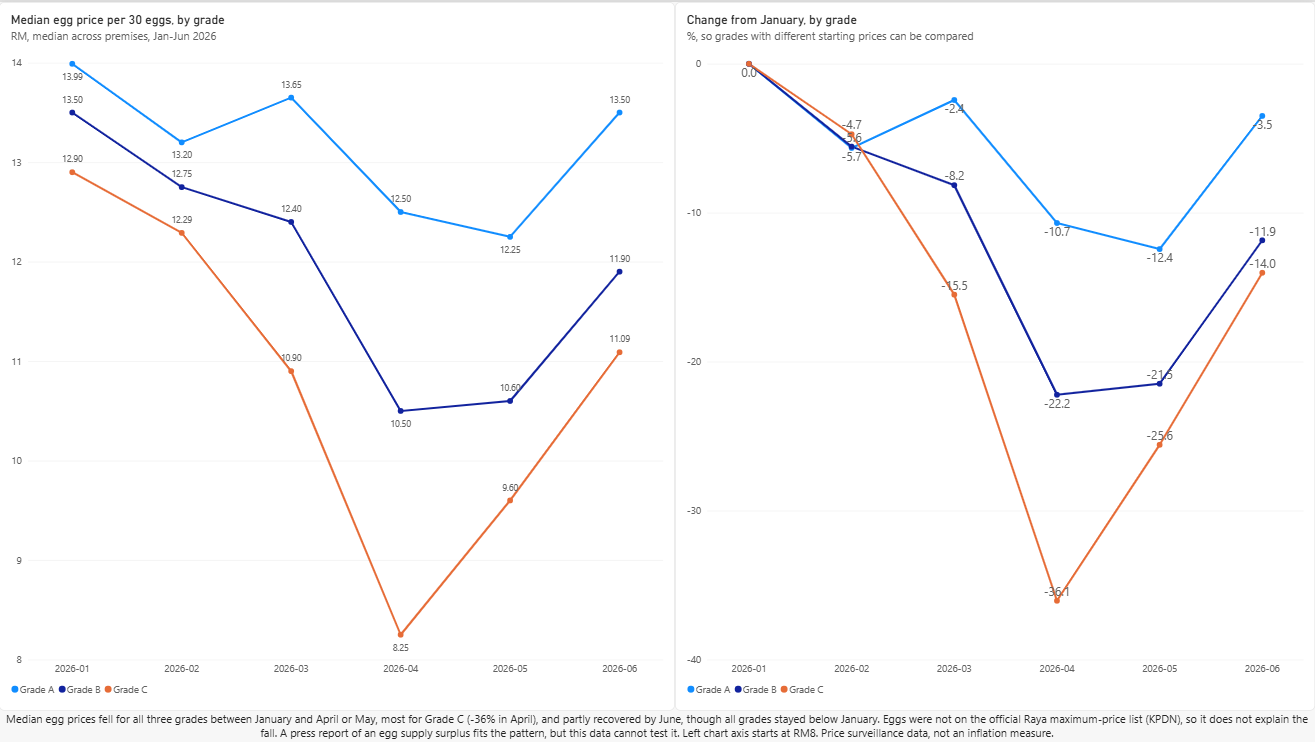

The page's visual inventory and layout, read from the dashboard file:
{"tool":"powerbi","page":{"name":"Eggs","canvas":[1920,1080],"ordinal":2},"visuals":[{"type":"lineChart","title":"Median egg price per 30 eggs, by grade","fields":{"Category":["dash_egg_monthly.month"],"Series":["dash_egg_monthly.grade"],"Y":["Avg(dash_egg_monthly.median)"]},"box":[0,0,986.3,1079.6],"z":0},{"type":"lineChart","title":"Change from January, by grade","fields":{"Category":["dash_egg_monthly.month"],"Series":["dash_egg_monthly.grade"],"Y":["Avg(dash_egg_monthly.pct_diff)"]},"box":[986.3,0,933.7,1079.6],"z":1}]}

Visuals, with their boxes in screenshot pixels (x1, y1, x2, y2), scaled from the page's 1920x1080 canvas onto the 1315x742 screenshot:
"Median egg price per 30 eggs, by grade" lineChart: BBox(0, 0, 676, 741)
"Change from January, by grade" lineChart: BBox(676, 0, 1314, 741)
